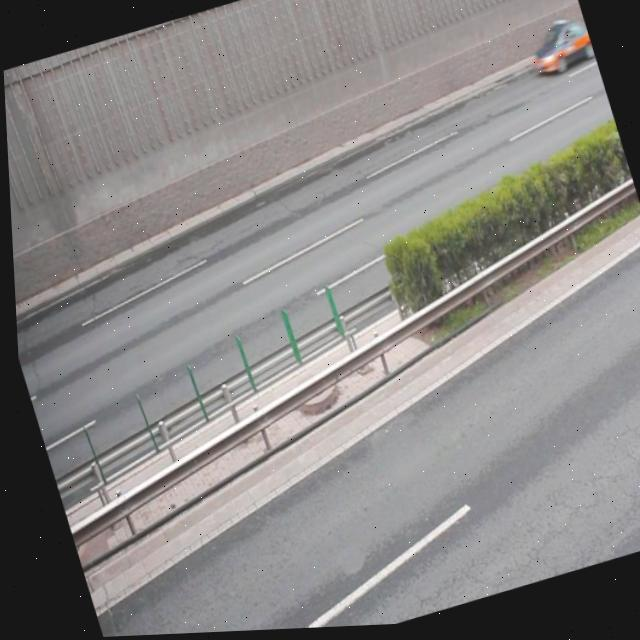car: (521, 17, 595, 80)
